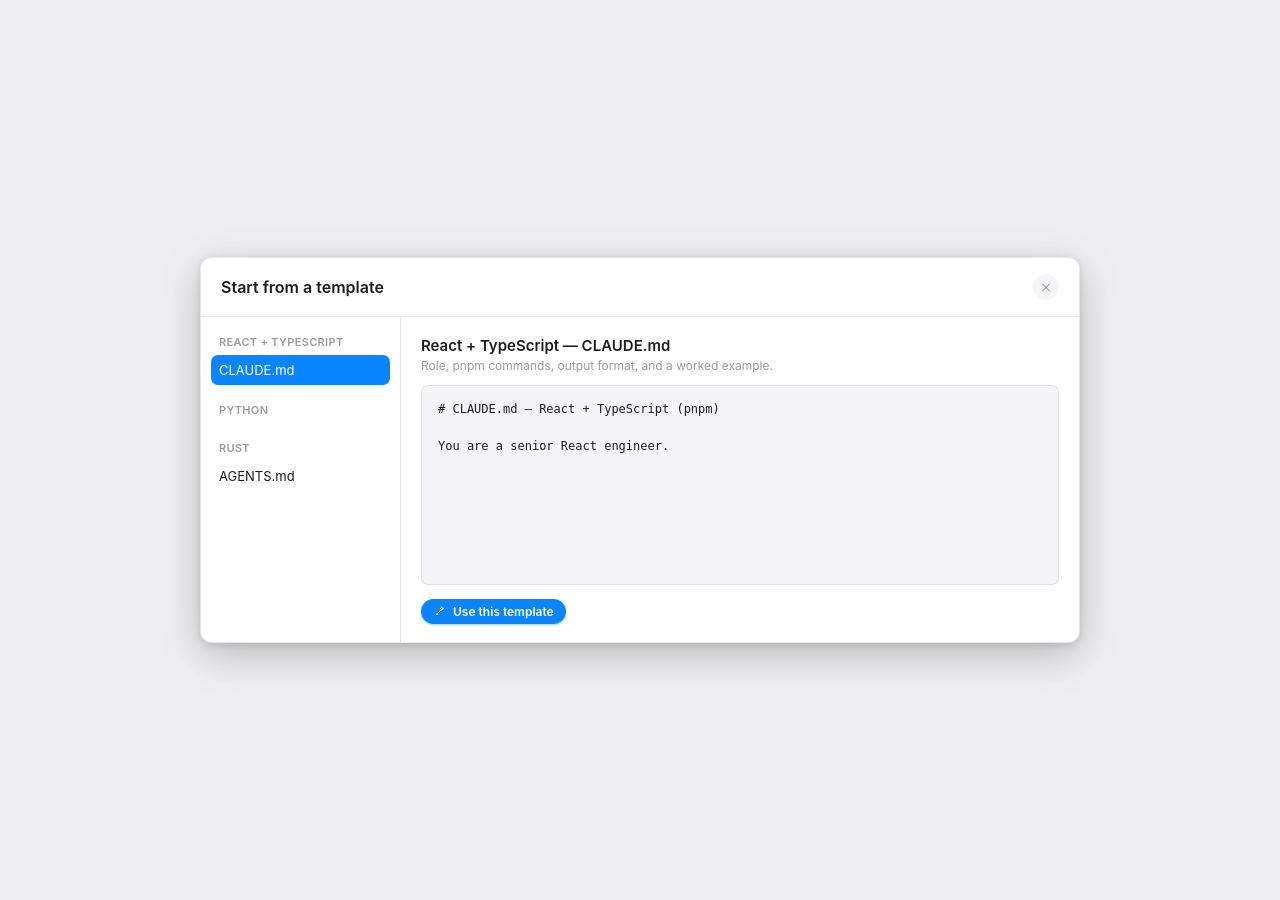
Test: TemplatePicker — not entitled (payments paused) › switches the preview when a different template is selected
This screenshot has width=1280, height=900.
Click the button with aria-label "Rust AGENTS.md".
click(300, 476)  # box top-left (211, 461), bottom-right (390, 491)
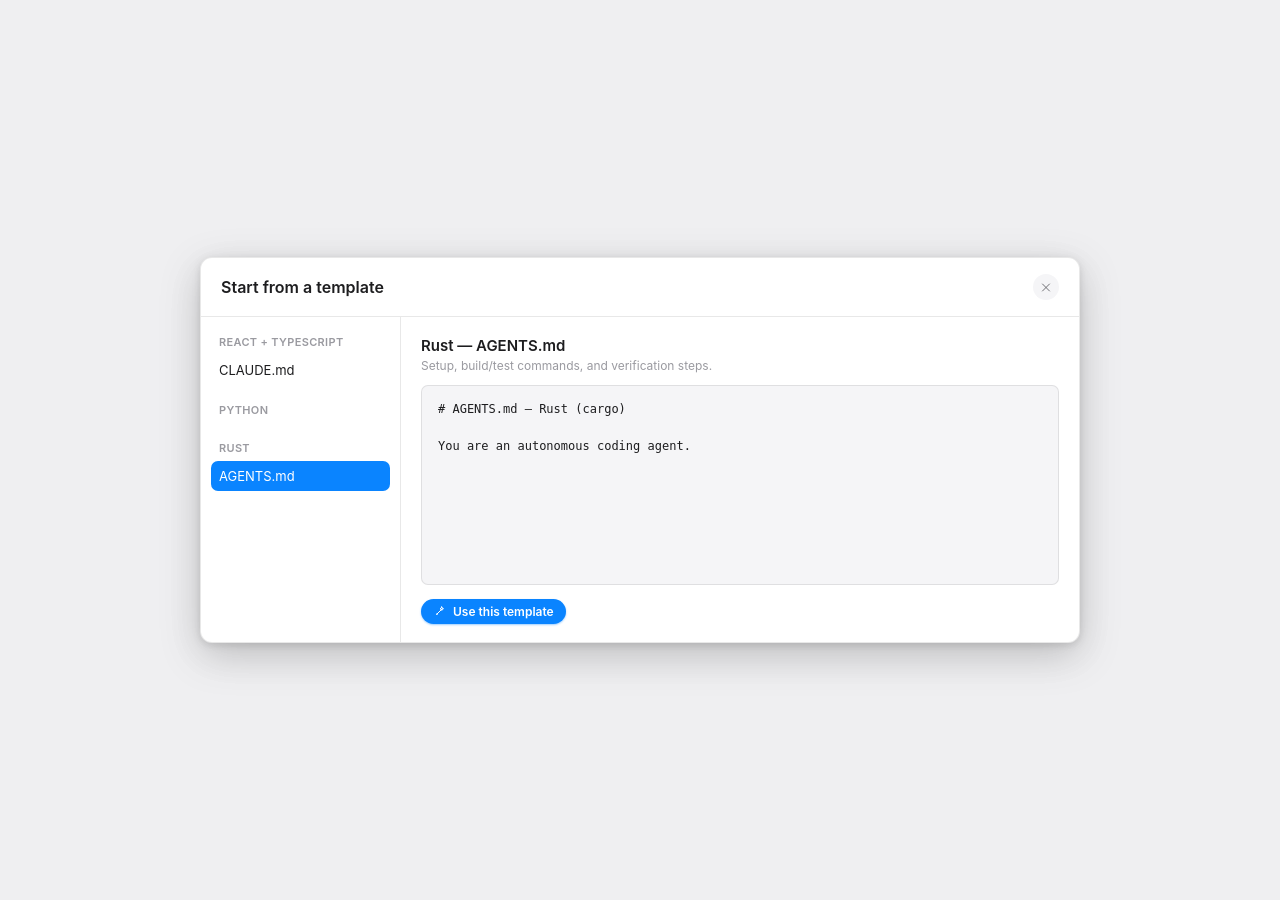
Check: the text "You are an autonomous coding agent" is shown, box top-left (438, 402), bottom-right (691, 453)
